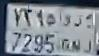2: (22, 8, 32, 52)
5: (45, 12, 55, 54)
7: (11, 7, 21, 52)
9: (34, 8, 44, 54)
G: (61, 12, 72, 53)
J: (84, 12, 94, 54)
N: (73, 14, 82, 53)
